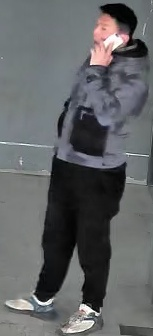phone: (73, 1, 147, 127)
